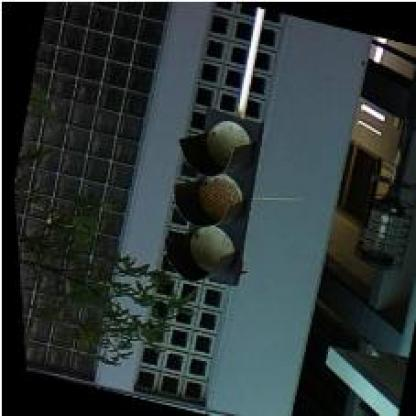yellow: (143, 102, 275, 290)
